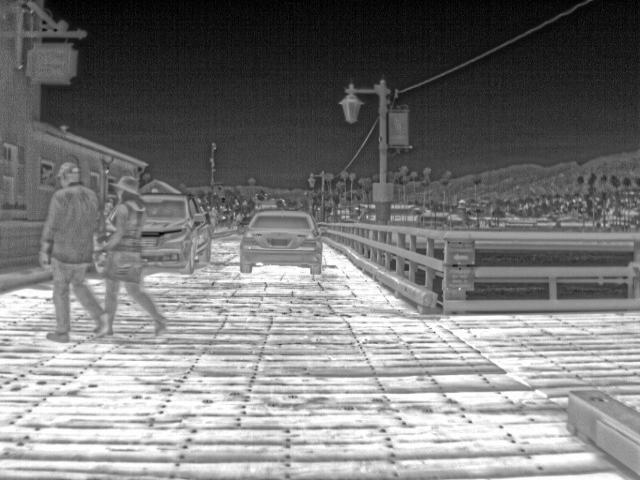car: (141, 189, 210, 275), (239, 210, 324, 274), (235, 216, 254, 234)
person: (36, 162, 110, 340), (105, 176, 168, 334)
